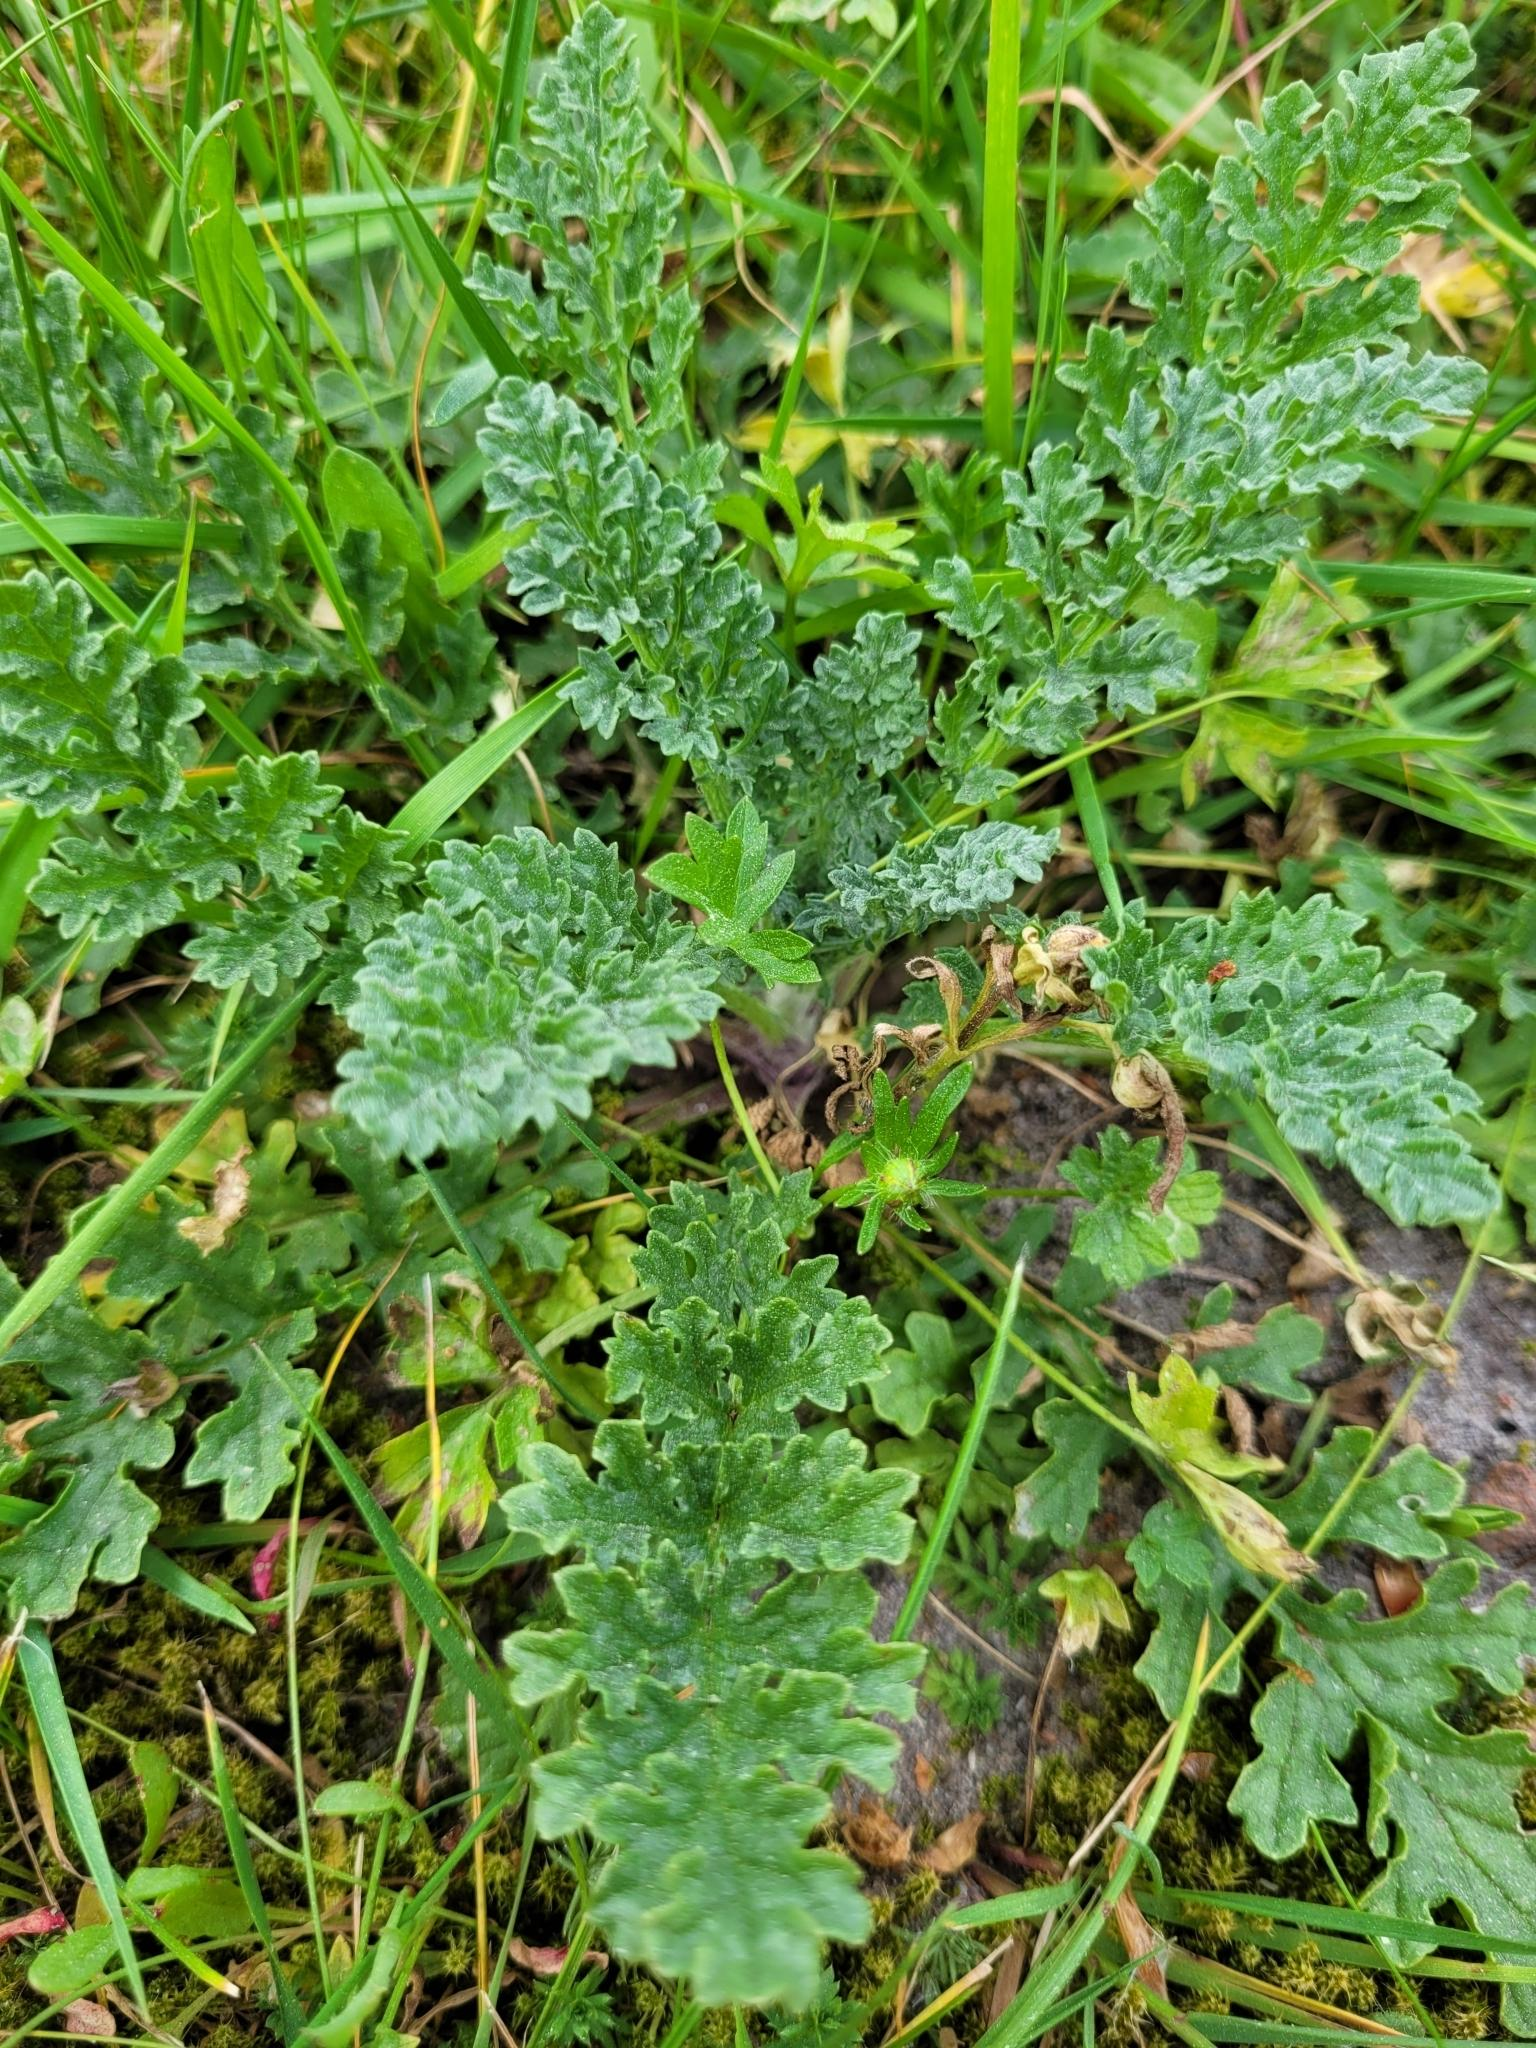Jacobaea vulgaris: (47, 0, 1523, 2009)
